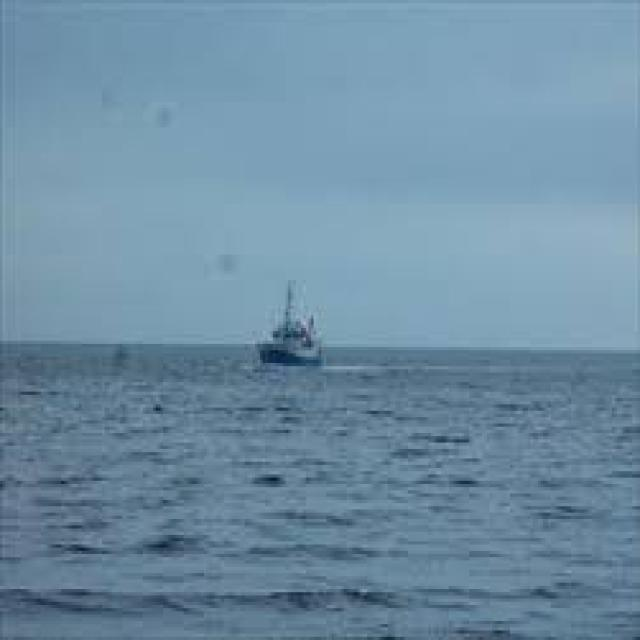fishing boat: (247, 290, 331, 374)
